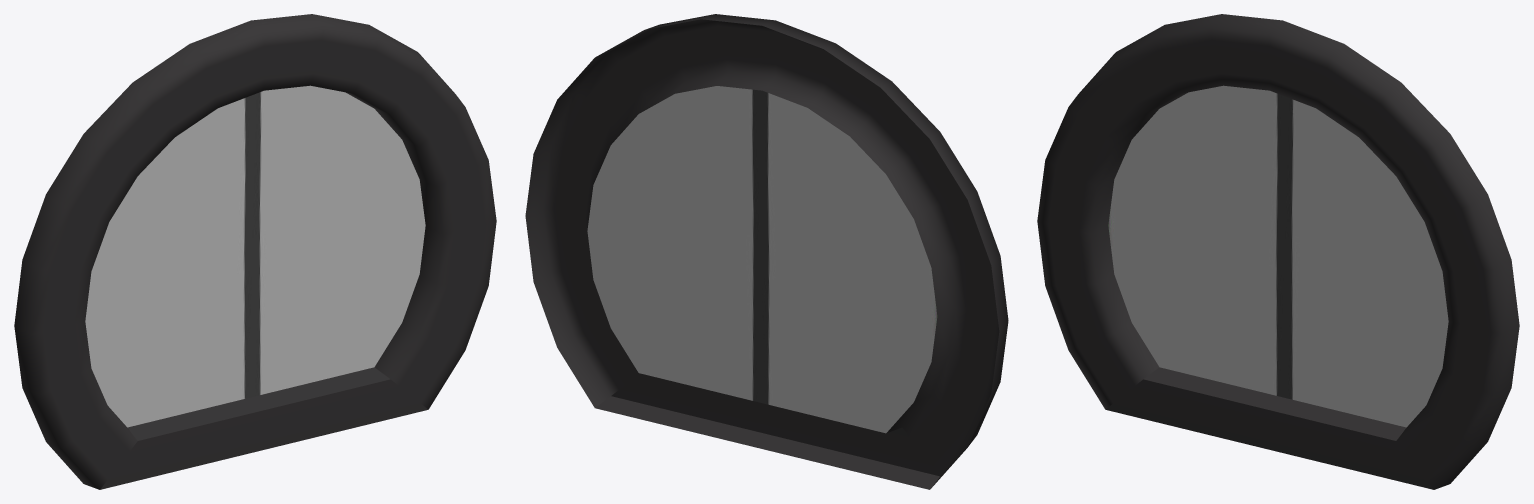
Rendered from DoorClosed.fbx.
The picture shows the model from 3 angles, left to right: view 1: azimuth 30°, elevation 25°; view 2: azimuth 150°, elevation 25°; view 3: azimuth 330°, elevation 25°; orthographic projection.
Parts seen in each view (by area): view 1: Torus001; view 2: Torus001; view 3: Torus001.
Part boxes in pixels (box(x1,y1,x2,y2)): Torus001: box(14, 14, 496, 489); Torus001: box(525, 14, 1008, 489); Torus001: box(1037, 14, 1519, 489).
Size of the model in its own units: 161 by 137 by 7.88.
Materials: 1 (1 with a texture image).
